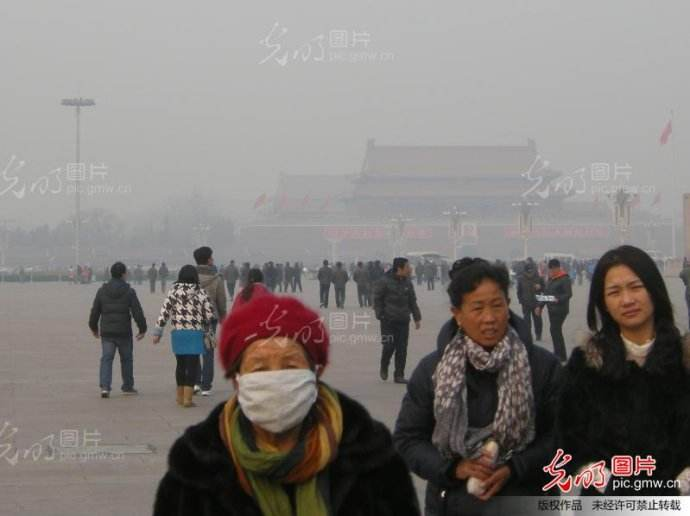person: (153, 282, 422, 516), (387, 255, 578, 516), (559, 242, 689, 516), (152, 264, 212, 407), (89, 262, 144, 398), (376, 259, 422, 382), (192, 247, 220, 397), (540, 258, 576, 361), (517, 257, 546, 341), (316, 258, 333, 309), (332, 261, 350, 308), (354, 261, 369, 308), (224, 259, 240, 301), (262, 258, 278, 288), (290, 261, 304, 291), (424, 259, 437, 291), (282, 260, 294, 292), (158, 262, 170, 293), (238, 262, 254, 285), (146, 263, 158, 293), (133, 262, 146, 287), (415, 257, 425, 289), (276, 260, 285, 290), (370, 259, 385, 277)
